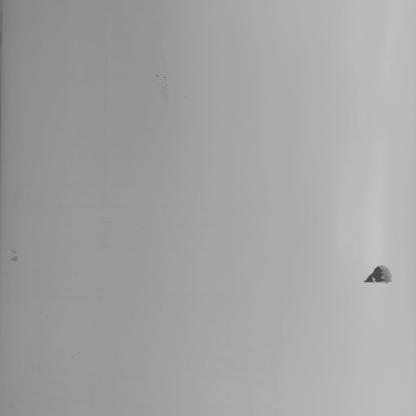kongdong: (351, 256, 400, 293)
